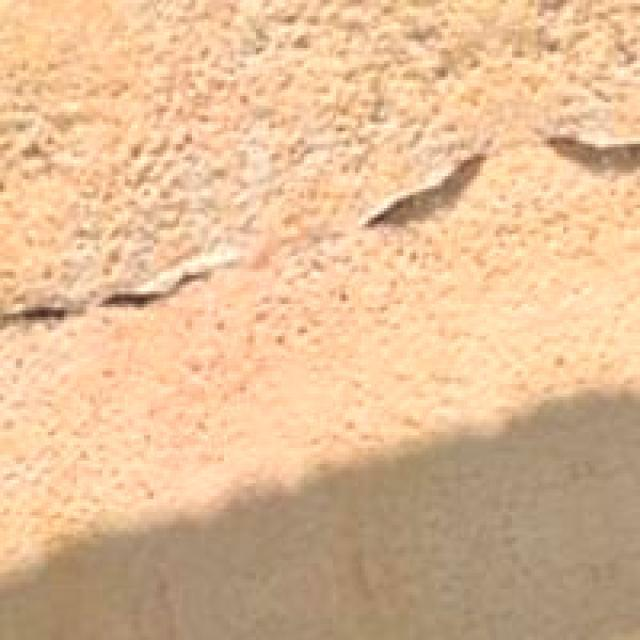SurfaceCrack: (360, 98, 640, 274), (0, 234, 230, 358)
